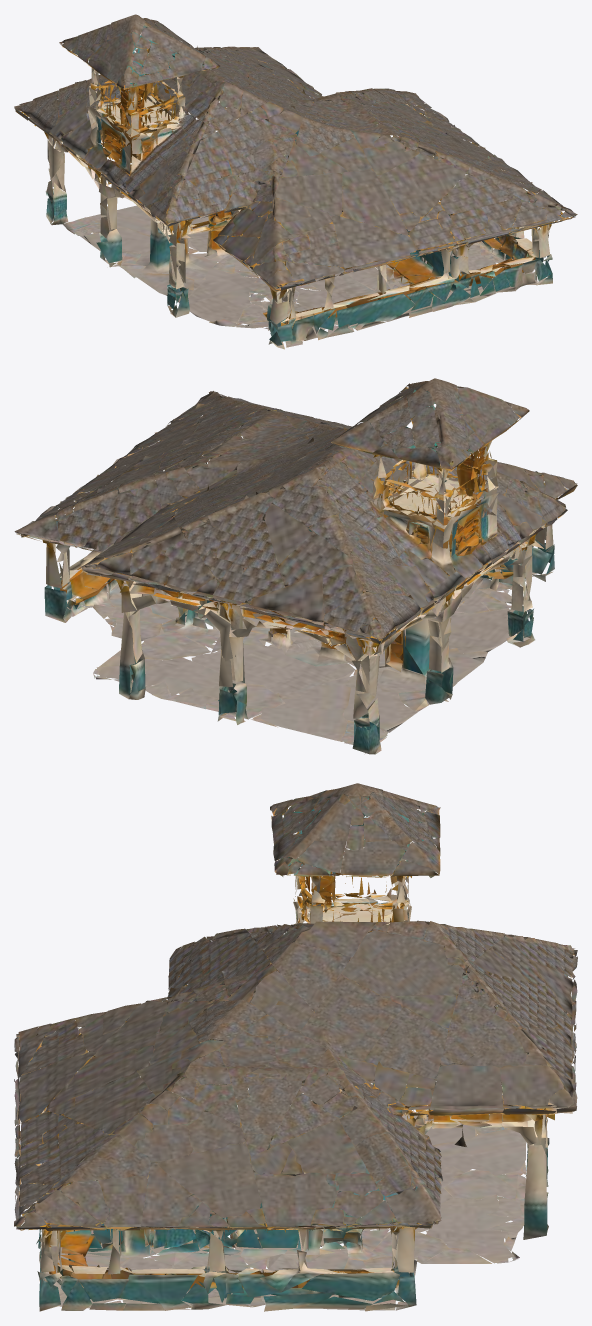
File: pool-pavilion.glb
3 views of the same model, one above another, from view 1: azimuth 30°, elevation 25°; view 2: azimuth 150°, elevation 25°; view 3: azimuth 270°, elevation 25° (orthographic). The views are drawn at different scales.
Visible parts, largest first — view 1: Mesh_0; view 2: Mesh_0; view 3: Mesh_0.
Boxes of the visible parts, left/top/right/bottom form: Mesh_0: left=14, top=14, right=577, bottom=349; Mesh_0: left=14, top=378, right=577, bottom=754; Mesh_0: left=14, top=783, right=577, bottom=1311.
Bounding box in the file's own units: 1.85 × 1.28 × 1.9.
Materials: 1 (1 with a texture image).
